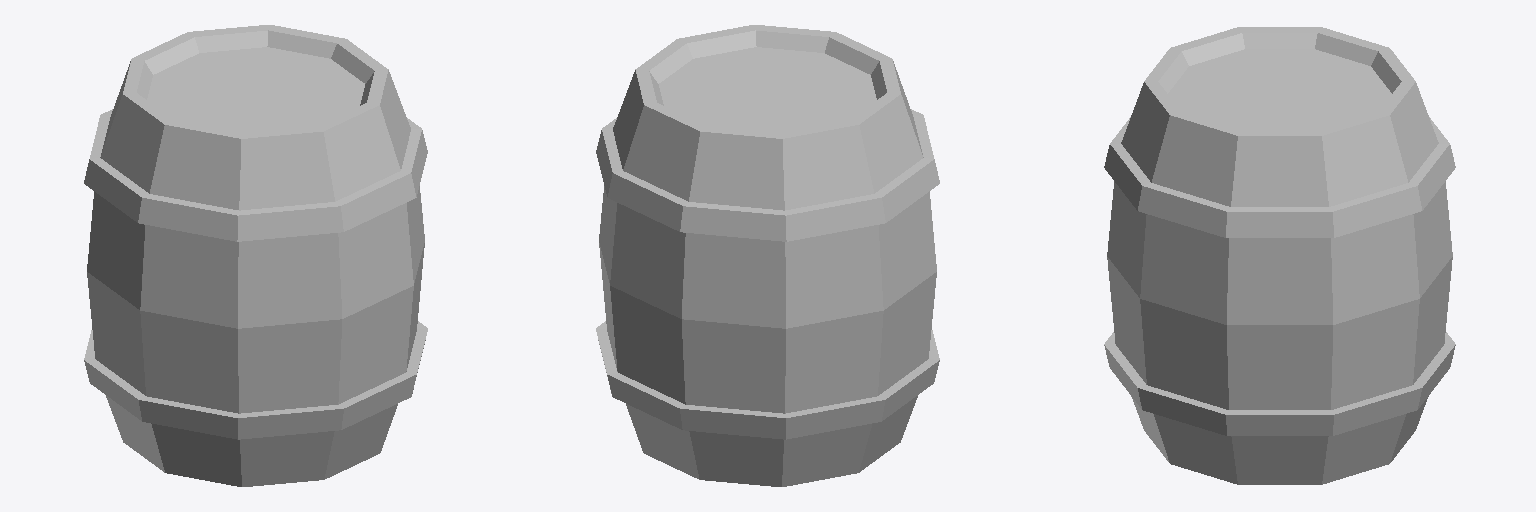
The model's file is barril_6.obj.
3 views of the same model, side by side, from view 1: azimuth 30°, elevation 25°; view 2: azimuth 150°, elevation 25°; view 3: azimuth 270°, elevation 25° (orthographic).
Visible parts, largest first — view 1: Barril.005_Cylinder.048; view 2: Barril.005_Cylinder.048; view 3: Barril.005_Cylinder.048.
Boxes of the visible parts, <box> form: Barril.005_Cylinder.048: <box>84,25,427,486</box>; Barril.005_Cylinder.048: <box>596,25,939,486</box>; Barril.005_Cylinder.048: <box>1104,27,1455,484</box>.
Bounding box in the file's own units: 0.8714 × 1 × 0.9152.